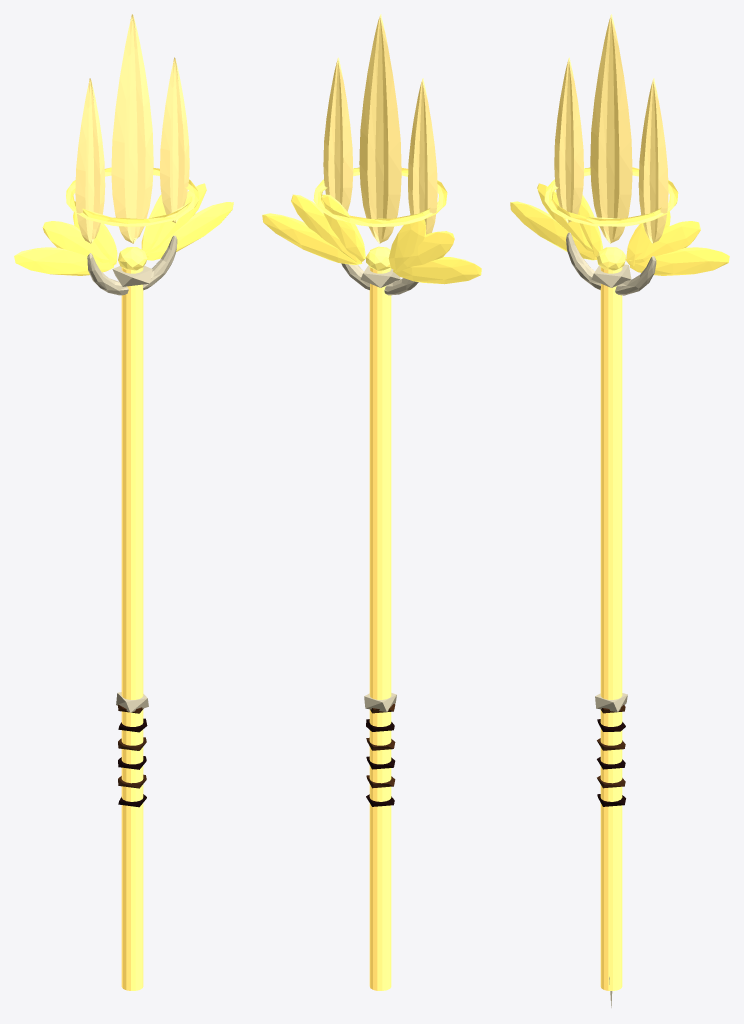
File: spear_7.glb
The picture shows the model from 3 angles, left to right: view 1: azimuth 30°, elevation 25°; view 2: azimuth 150°, elevation 25°; view 3: azimuth 330°, elevation 25°; orthographic projection.
Visible parts, largest first — view 1: part_01, part_11, part_13, part_12, part_15, part_22, part_18, part_14, part_16, part_19, part_20, part_17 (+2 smaller); view 2: part_01, part_11, part_13, part_12, part_18, part_15, part_22, part_19, part_20, part_16, part_17, part_14; view 3: part_01, part_11, part_12, part_13, part_18, part_22, part_15, part_14, part_19, part_16, part_20, part_17 (+2 smaller).
Part boxes in pixels (box(x1,y1,x2,y2)): part_01: box(121, 267, 143, 990); part_11: box(111, 14, 153, 243); part_13: box(160, 57, 189, 222); part_12: box(75, 78, 105, 243); part_15: box(14, 247, 113, 275); part_22: box(66, 167, 198, 226); part_18: box(147, 202, 233, 260); part_14: box(87, 235, 177, 295); part_16: box(42, 221, 114, 265); part_19: box(145, 183, 206, 254); part_20: box(141, 194, 166, 257); part_17: box(73, 212, 117, 265); part_01: box(369, 267, 391, 990); part_11: box(359, 14, 401, 243); part_13: box(323, 57, 353, 211); part_12: box(408, 78, 437, 234); part_18: box(262, 213, 362, 264); part_15: box(393, 256, 481, 284); part_22: box(313, 167, 447, 226); part_19: box(291, 194, 363, 262); part_20: box(322, 194, 365, 262); part_16: box(393, 231, 454, 272); part_17: box(388, 219, 425, 270); part_14: box(341, 263, 418, 295); part_01: box(600, 267, 622, 990); part_11: box(590, 14, 632, 243); part_12: box(554, 57, 583, 222); part_13: box(638, 78, 668, 243); part_18: box(630, 247, 729, 275); part_22: box(544, 167, 678, 226); part_15: box(510, 201, 596, 260); part_14: box(566, 232, 656, 295); part_19: box(629, 221, 700, 263); part_16: box(537, 183, 592, 251); part_20: box(626, 211, 670, 266); part_17: box(577, 194, 602, 256).
Size of the model in its own units: 0.4425 by 1.91 by 0.2347.
